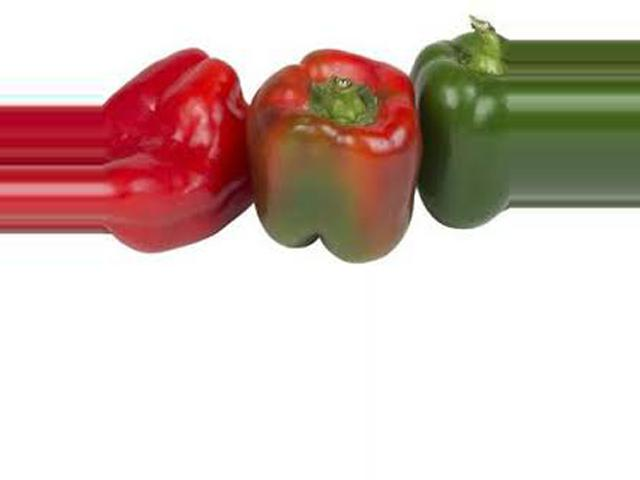bell_pepper: (102, 30, 254, 262)
